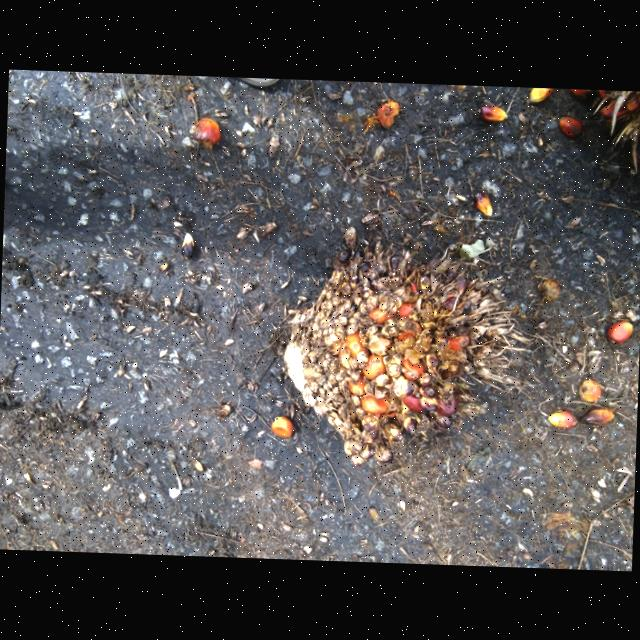Overripe: (293, 250, 516, 472)
